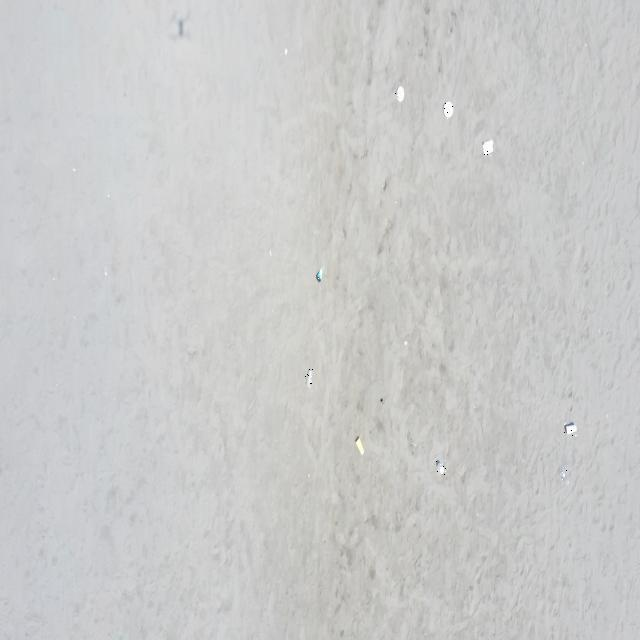take-away-containers: (481, 137, 494, 156), (443, 100, 454, 119), (395, 85, 405, 103)
takeaway-cup: (354, 435, 365, 457), (558, 468, 570, 486), (564, 422, 578, 436), (305, 368, 313, 390), (436, 460, 446, 476), (316, 266, 324, 284)
